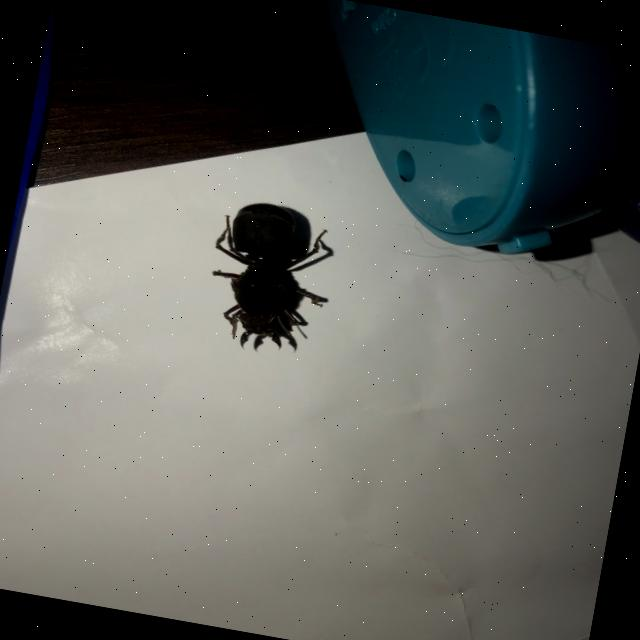Alive-Female-Dealate: (198, 196, 342, 363)
